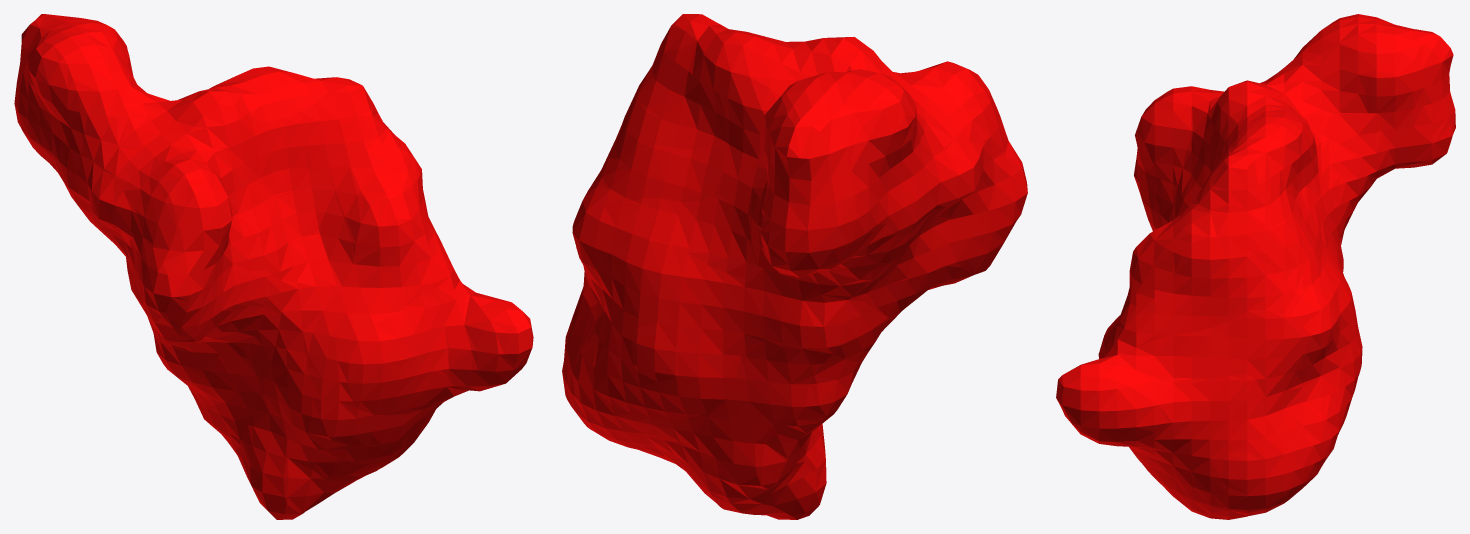
Rendered from rpsM_coarse.dae.
3 renders of one model, left to right at view 1: azimuth 30°, elevation 25°; view 2: azimuth 150°, elevation 25°; view 3: azimuth 270°, elevation 25°, orthographic. The views are drawn at different scales.
Visible parts, largest first — view 1: rpsM; view 2: rpsM; view 3: rpsM.
Part boxes in pixels (x1,y1,x2,y2): rpsM: (14, 14, 533, 519); rpsM: (562, 14, 1027, 519); rpsM: (1056, 14, 1455, 519).
Size of the model in its own units: 43.59 by 54.42 by 46.01.
